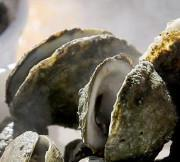3: (7, 28, 144, 136), (78, 55, 175, 162), (0, 131, 65, 162)
Oyster-Open: (142, 18, 180, 162), (0, 0, 12, 35)
